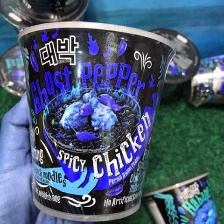paper_cup: (13, 16, 181, 224)
